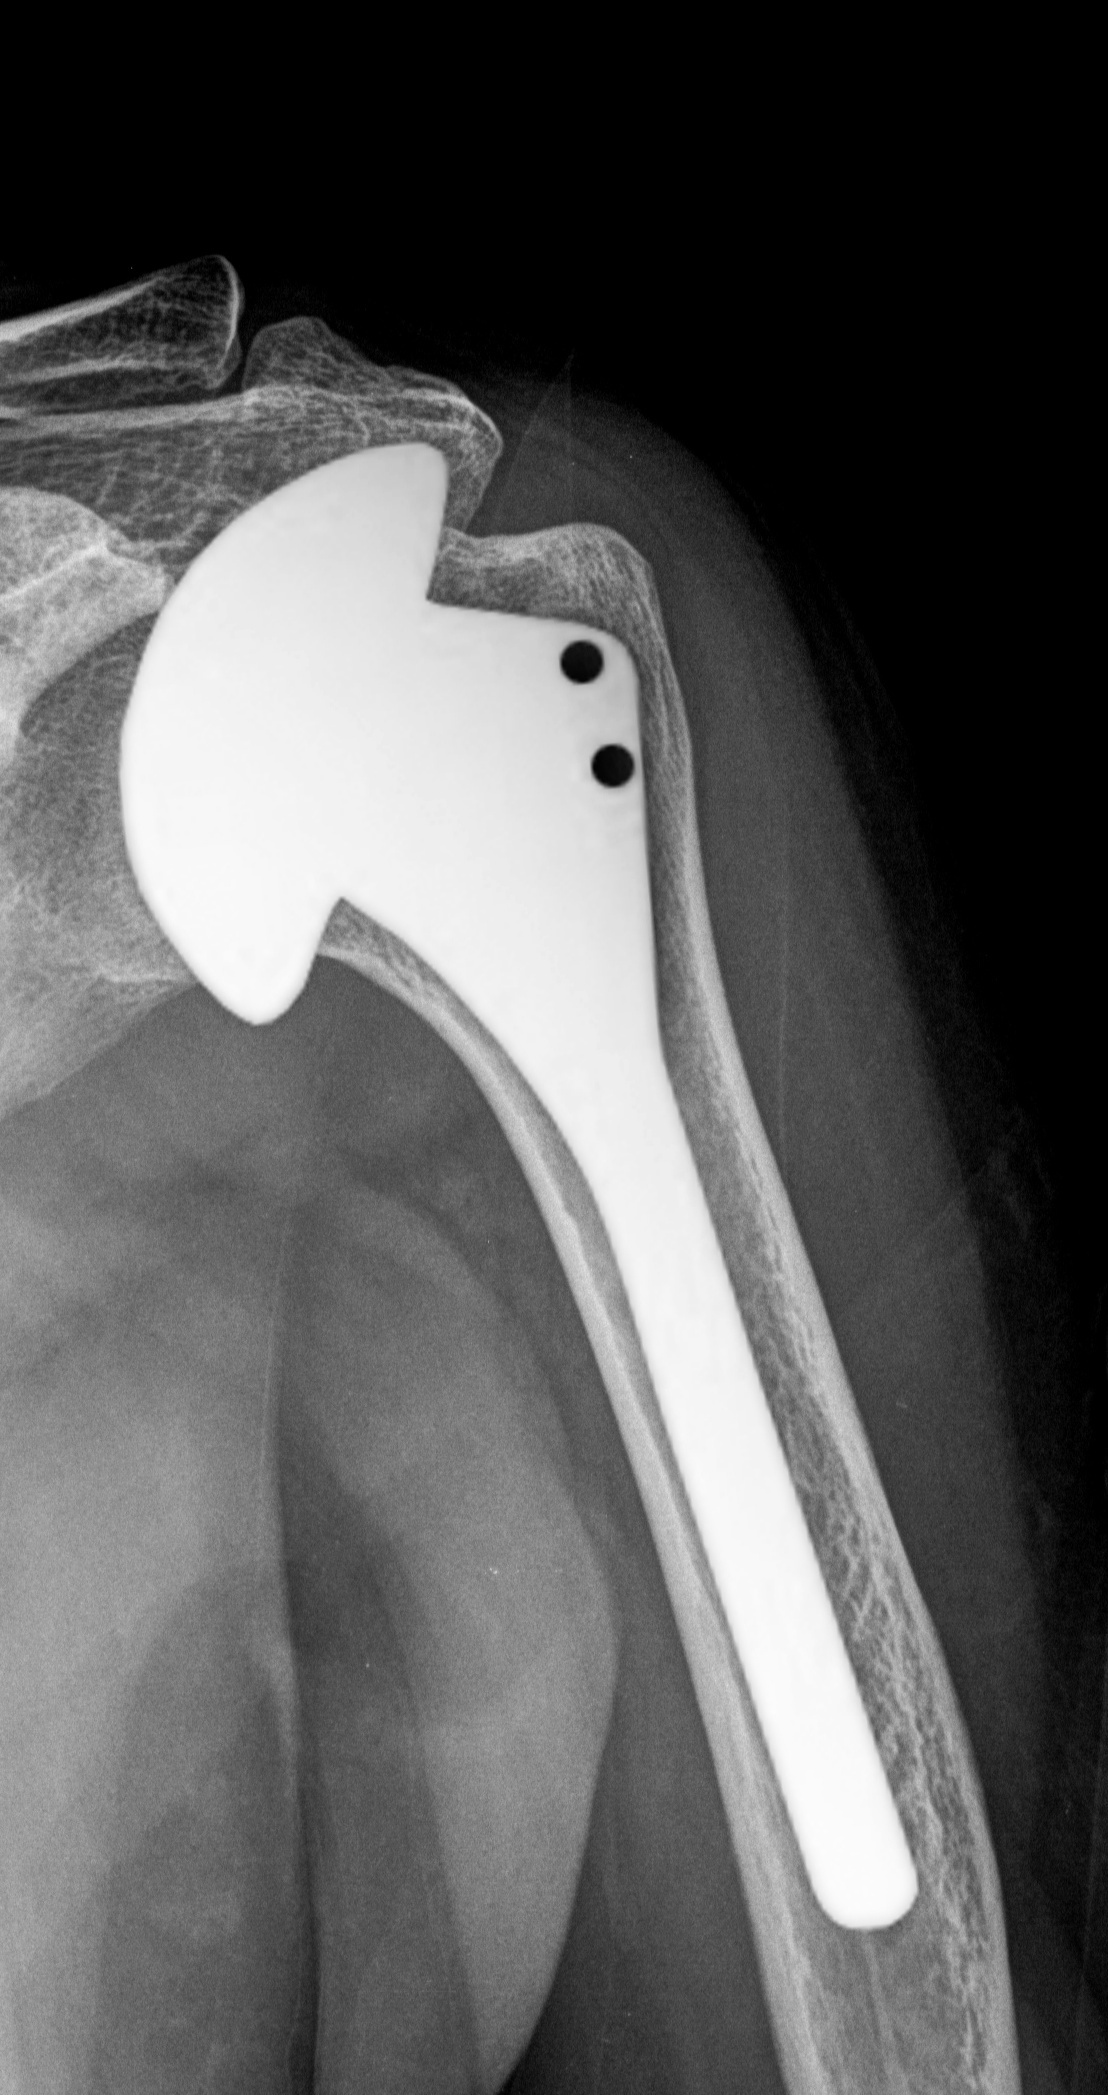Shoulder - Aequalishead - Tornier: (107, 414, 465, 1064)
Shoulder - Aequalistail - Tornier: (265, 420, 668, 1102)
